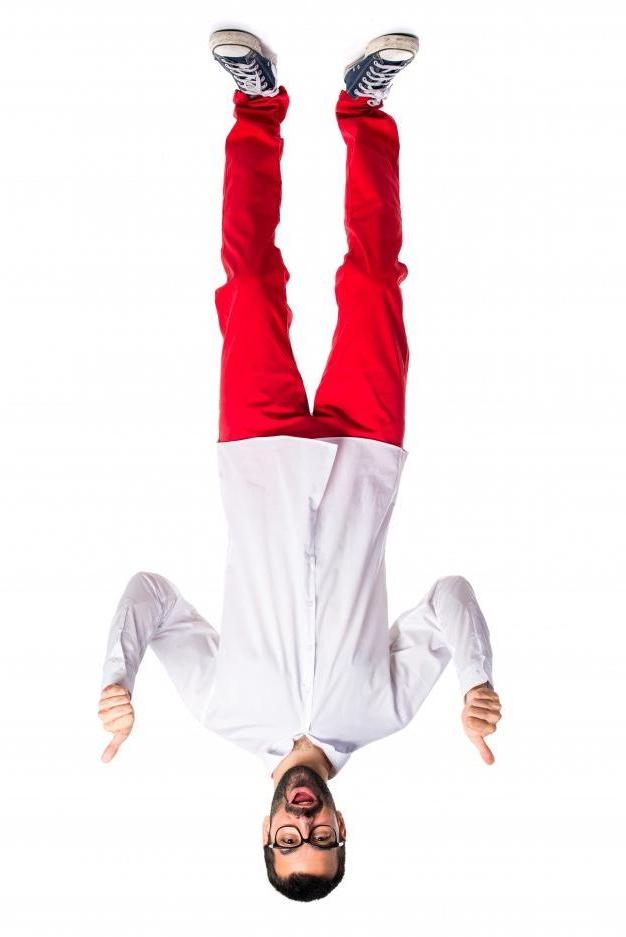thumbsdown: (465, 687, 502, 765), (98, 685, 135, 763)
